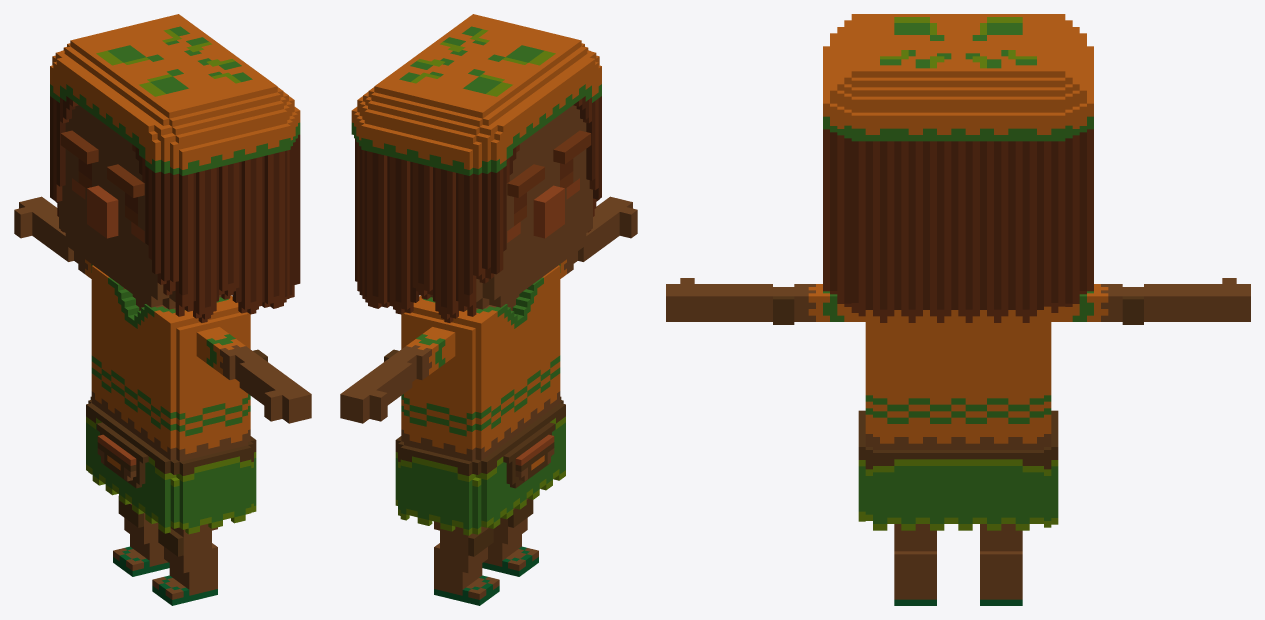
Rendered from Pers_Vendedora_Original.fbx.
The picture shows the model from 3 angles, left to right: view 1: azimuth 30°, elevation 25°; view 2: azimuth 150°, elevation 25°; view 3: azimuth 270°, elevation 25°; orthographic projection. The views are drawn at different scales.
Visible parts, largest first — view 1: Mesh; view 2: Mesh; view 3: Mesh.
Part boxes in pixels (left/top/right/bottom): Mesh: left=14, top=14, right=311, bottom=605; Mesh: left=340, top=14, right=637, bottom=605; Mesh: left=666, top=14, right=1250, bottom=605.
Size of the model in its own units: 67.5 by 215 by 205.
1 material, 1 textured.
